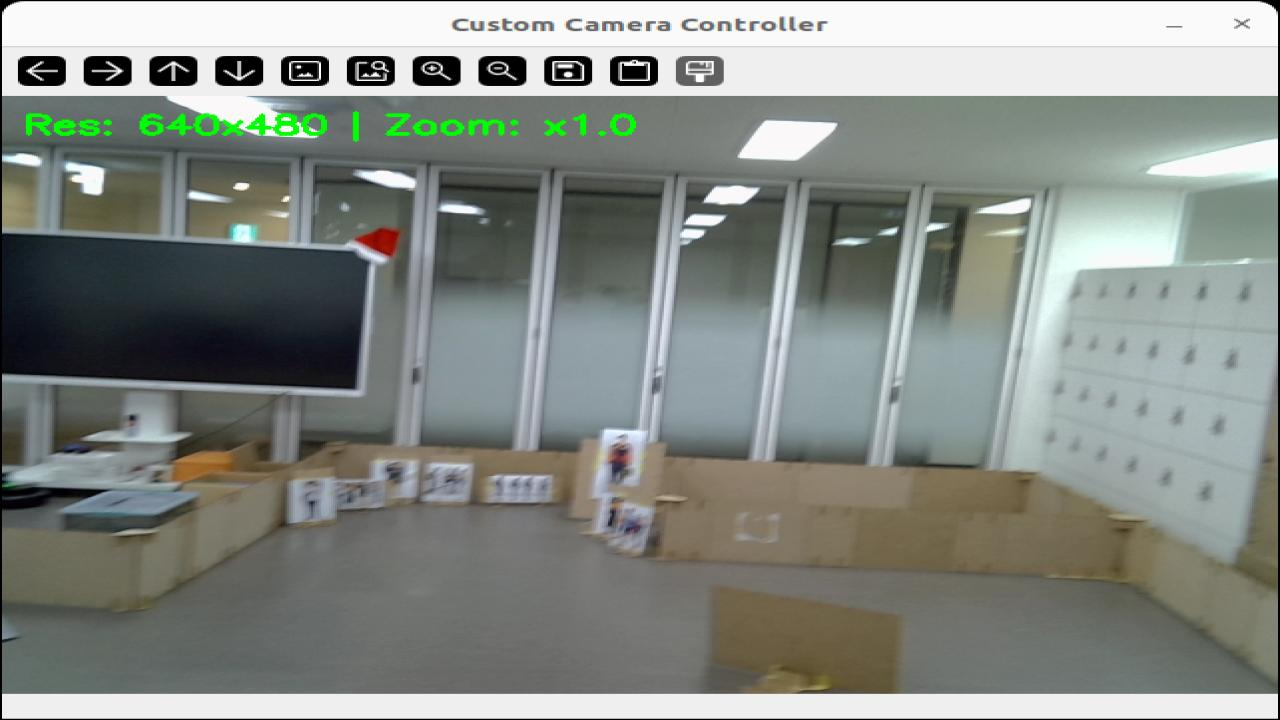Crowd: (605, 496, 648, 543), (490, 477, 549, 502), (424, 467, 469, 496), (336, 482, 381, 510), (300, 480, 323, 521), (383, 462, 406, 498)
Responder: (607, 434, 638, 486)
